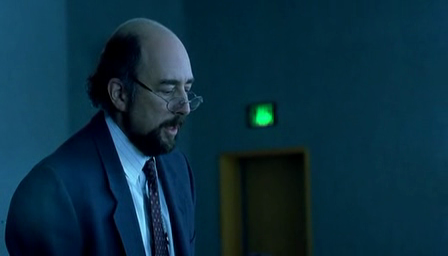face: (141, 57, 204, 156)
mcu: (1, 1, 448, 256)
person: (4, 16, 204, 256)
